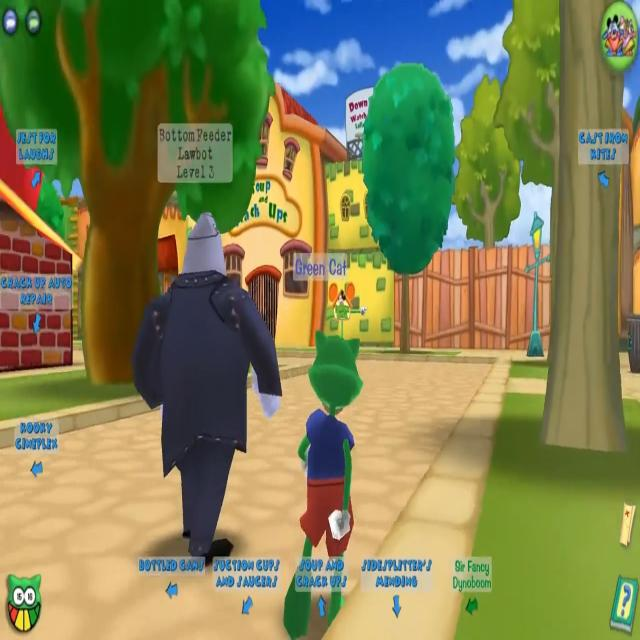bottomfeeder: (146, 115, 286, 572)
